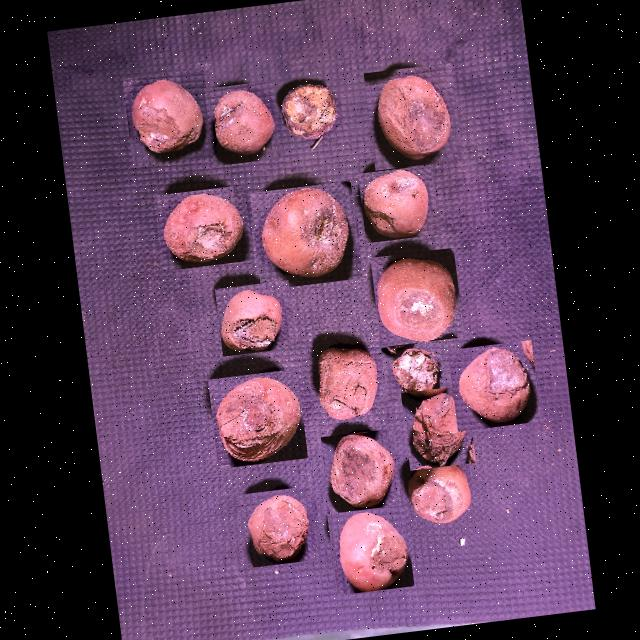Damaged potato: (248, 180, 361, 290), (362, 62, 462, 170), (206, 368, 306, 468), (369, 247, 463, 347), (122, 68, 214, 168), (447, 339, 540, 432), (154, 184, 252, 270), (326, 504, 413, 595), (306, 333, 383, 424), (319, 428, 400, 514), (203, 80, 280, 166), (237, 486, 317, 568), (356, 165, 438, 242), (400, 385, 474, 470), (214, 280, 296, 356), (268, 72, 349, 148), (398, 458, 476, 536), (380, 341, 444, 402)
